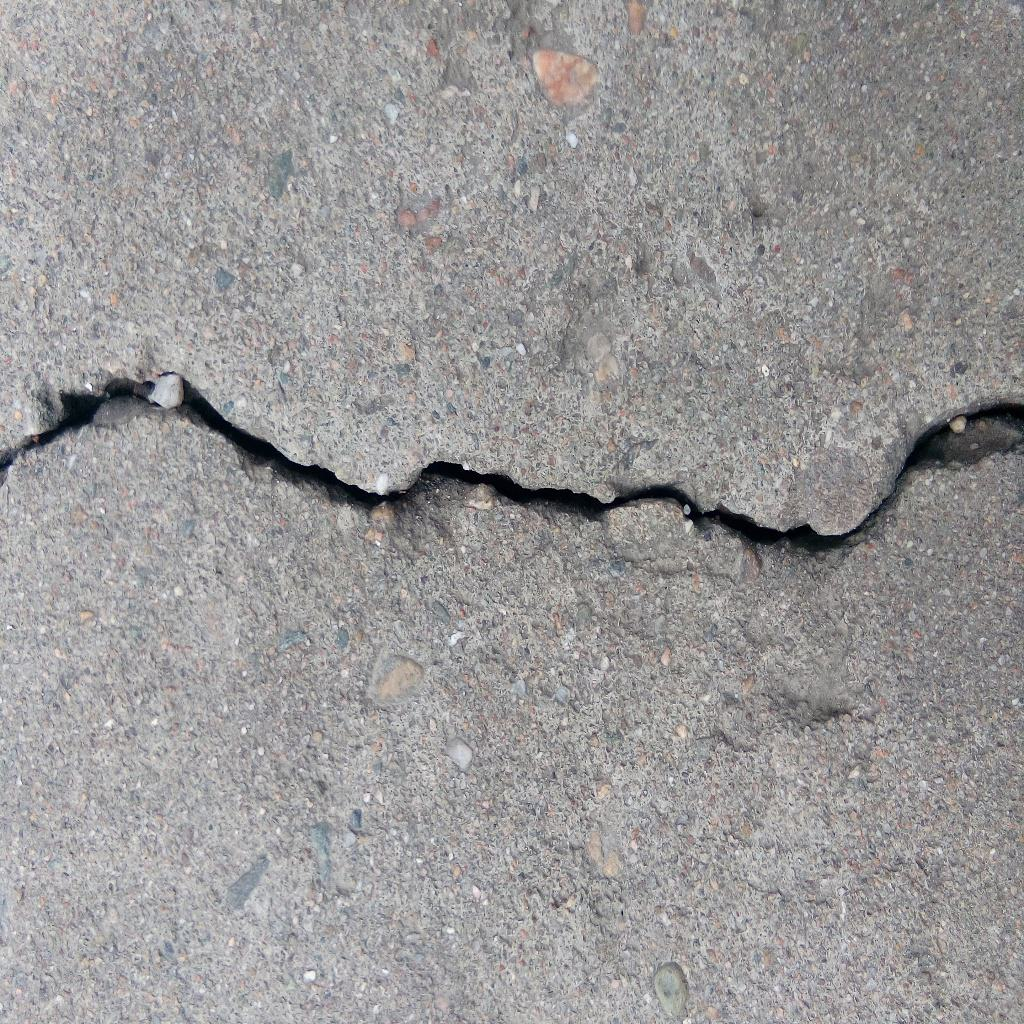Crack: (1, 366, 1024, 557)
